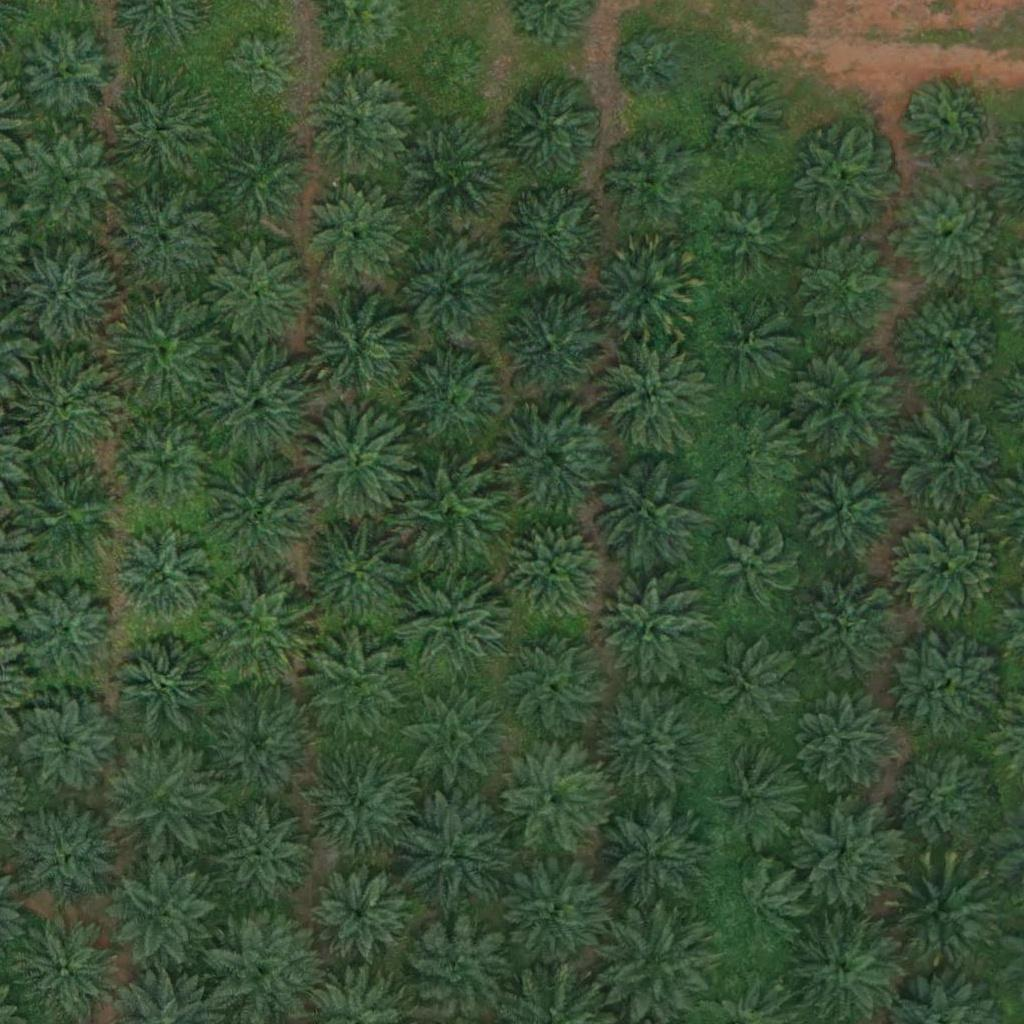Kelapa_Sawit: (204, 454, 317, 568), (302, 630, 415, 744), (893, 178, 1006, 292), (897, 290, 1010, 404), (497, 856, 610, 970), (395, 685, 508, 799), (397, 795, 510, 909), (305, 750, 418, 864), (591, 234, 704, 347), (494, 75, 607, 188), (108, 287, 221, 400), (205, 347, 318, 460), (299, 408, 412, 521), (301, 517, 414, 630), (595, 338, 708, 451), (590, 455, 703, 568), (594, 577, 707, 690), (792, 685, 905, 798), (794, 799, 907, 912), (109, 860, 222, 973), (7, 909, 120, 1022), (7, 239, 119, 353), (15, 347, 127, 461), (205, 579, 317, 693), (598, 906, 710, 1020), (495, 183, 607, 296), (396, 112, 508, 225), (394, 234, 506, 347), (106, 184, 218, 297), (12, 462, 124, 575), (201, 688, 313, 801), (302, 288, 414, 401), (392, 341, 504, 454), (391, 457, 503, 570), (399, 571, 511, 684), (494, 404, 606, 517), (498, 628, 610, 741), (597, 685, 709, 798), (795, 348, 907, 461), (793, 456, 905, 569), (897, 405, 1009, 518), (896, 629, 1008, 742), (887, 745, 999, 858), (886, 860, 998, 973), (596, 800, 708, 913), (496, 743, 608, 856), (104, 742, 216, 855), (599, 131, 699, 232), (304, 70, 404, 171), (304, 181, 404, 282), (211, 126, 311, 227), (209, 242, 309, 343), (106, 82, 206, 183), (19, 26, 119, 127), (19, 129, 119, 230), (16, 579, 116, 680), (18, 698, 118, 799), (118, 640, 218, 741), (500, 296, 600, 397), (503, 519, 603, 620), (801, 580, 901, 681), (899, 516, 999, 617), (706, 746, 806, 847), (310, 864, 410, 965), (212, 805, 312, 906), (18, 802, 118, 903), (113, 527, 213, 627), (792, 130, 892, 230), (805, 240, 905, 340), (699, 75, 787, 163), (119, 424, 207, 512), (710, 305, 798, 393), (715, 863, 803, 951), (715, 195, 802, 283), (714, 409, 801, 497), (709, 523, 796, 611), (710, 639, 797, 727), (900, 78, 987, 166), (222, 32, 297, 107), (617, 33, 680, 96), (419, 36, 481, 99)
